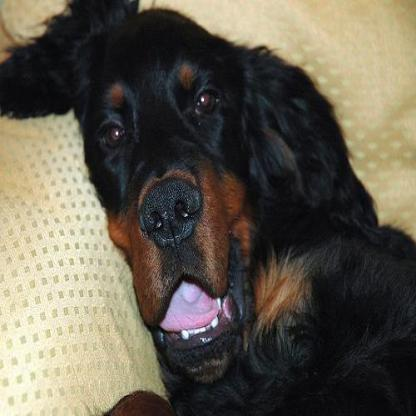Gordon_setter: (0, 0, 414, 413)
